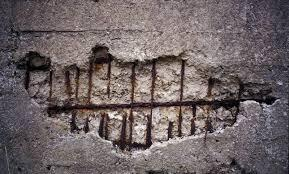exposed_rebar: (47, 52, 240, 150)
spalling: (15, 43, 280, 174)
